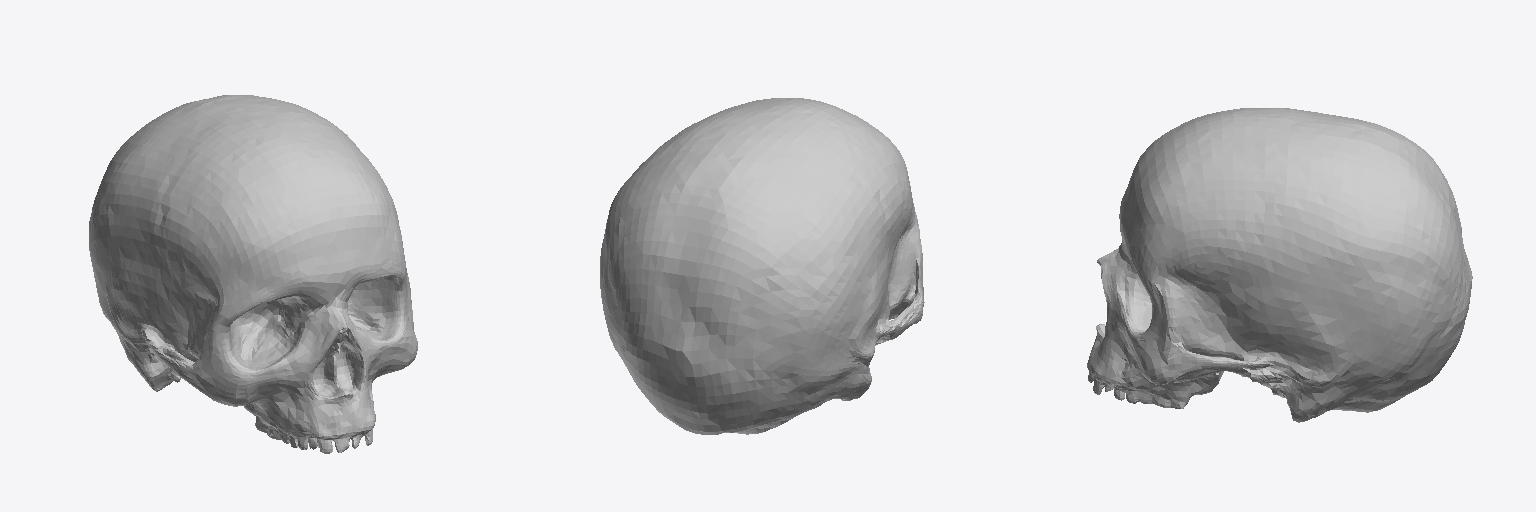
File: Skull_5.obj
3 renders of one model, left to right at view 1: azimuth 30°, elevation 25°; view 2: azimuth 150°, elevation 25°; view 3: azimuth 270°, elevation 25°, orthographic.
Visible parts, largest first — view 1: Skull_5_CM_skull_5; view 2: Skull_5_CM_skull_5; view 3: Skull_5_CM_skull_5.
Part boxes in pixels (bbox=[...]): Skull_5_CM_skull_5: bbox=[89, 95, 417, 453]; Skull_5_CM_skull_5: bbox=[600, 98, 924, 434]; Skull_5_CM_skull_5: bbox=[1087, 108, 1472, 422].
Bounding box in the file's own units: 10.47 × 11.2 × 14.39.